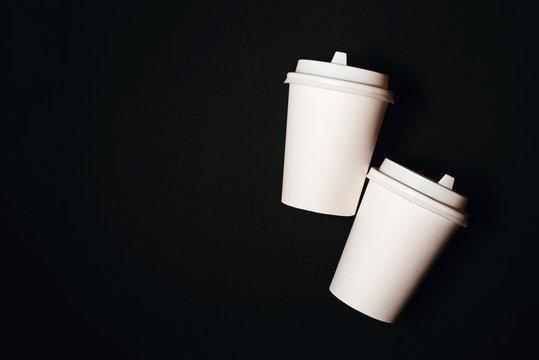cup-disposable: (327, 153, 473, 324), (277, 50, 396, 220)
